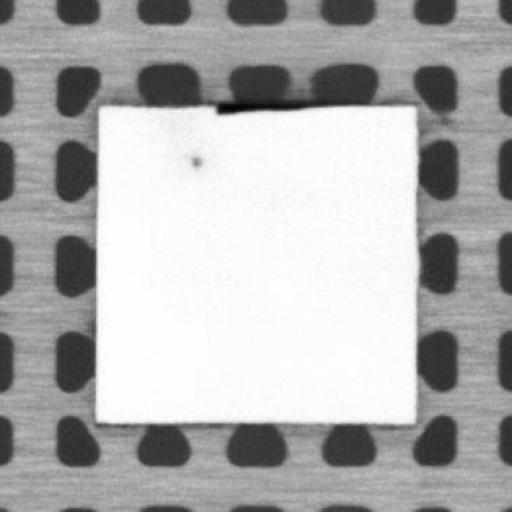DIE_INK: (188, 150, 203, 169)
